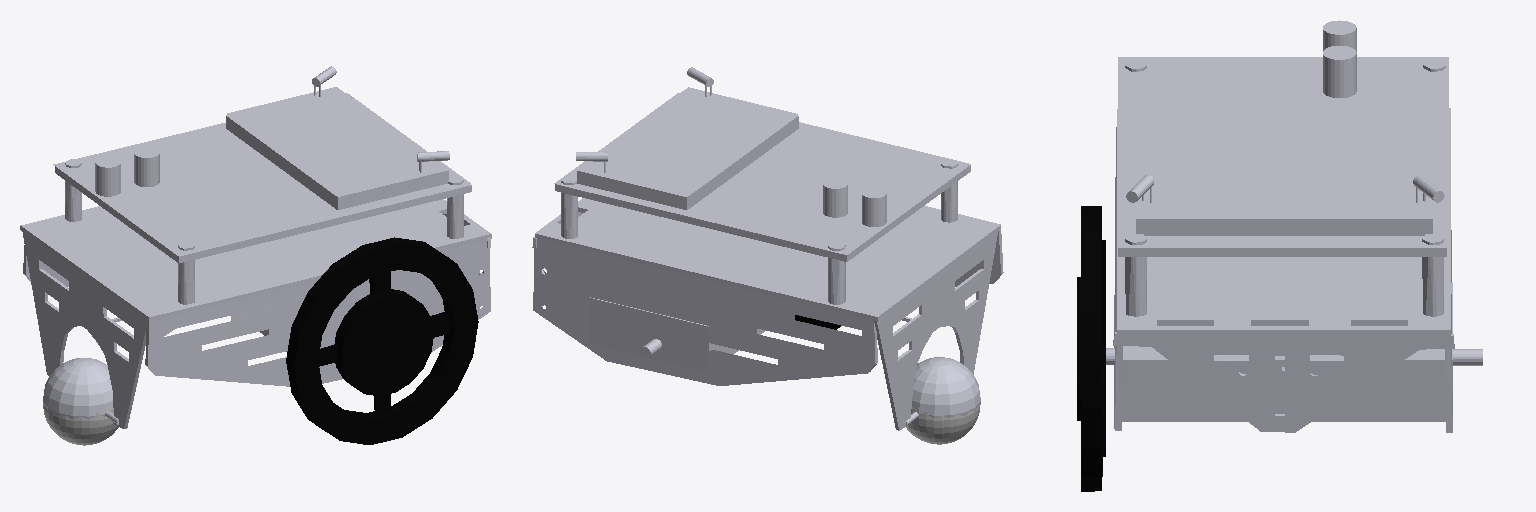
The robot description file, URDF, robot "bhr":
<?xml version="1.0"?>
<robot name="bhr">
  <material name="aluminum">
    <color rgba="0.8 0.8 0.85 1.0"/>
  </material>
  <material name="black">
    <color rgba="0.05 0.05 0.05 1.0"/>
  </material>
  <material name="silver">
    <color rgba="0.75 0.75 0.75 1.0"/>
  </material>

  <link name="base_footprint"/>

  <joint name="base_joint" type="fixed">
    <parent link="base_footprint"/>
    <child link="base_link"/>
    <origin xyz="0.0 0.0 0.0" rpy="0 0 0"/>
  </joint>

  <link name="base_link">
    <visual>
      <origin xyz="0 0 0" rpy="0 0 0"/>
      <geometry>
        <mesh filename="meshes/boebot_chassis.obj"/>
      </geometry>
      <material name="aluminum"/>
    </visual>
    <collision>
      <!-- Bottom 20 mm above the floor: only the wheels and caster touch it (a body resting
           on the ground drags, and the robot cannot drive). -->
      <origin xyz="-0.025 0 0.0545" rpy="0 0 0"/>
      <geometry>
        <box size="0.137 0.095 0.068"/>
      </geometry>
    </collision>
    <inertial>
      <origin xyz="-0.025 0 0.045" rpy="0 0 0"/>
      <mass value="0.300"/>
      <inertia ixx="0.000262" ixy="0" ixz="0" iyy="0.000381" iyz="0" izz="0.000541"/>
    </inertial>
  </link>

  <joint name="wheel_left_joint" type="continuous">
    <parent link="base_link"/>
    <child link="left_wheel"/>
    <origin xyz="0.0 0.046 0.034" rpy="-1.5707963 0 0"/>
    <axis xyz="0 0 1"/>
  </joint>

  <link name="left_wheel">
    <visual>
      <origin xyz="0 0 0" rpy="0 0 0"/>
      <geometry>
        <mesh filename="meshes/boebot_wheel_left.obj"/>
      </geometry>
      <material name="black"/>
    </visual>
    <collision>
      <origin xyz="0 0 0" rpy="0 0 0"/>
      <geometry>
        <cylinder length="0.007" radius="0.034"/>
      </geometry>
    </collision>
    <inertial>
      <origin xyz="0 0 0" rpy="0 0 0"/>
      <mass value="0.020"/>
      <inertia ixx="0.0000044" ixy="0" ixz="0" iyy="0.0000044" iyz="0" izz="0.0000084"/>
    </inertial>
  </link>

  <joint name="wheel_right_joint" type="continuous">
    <parent link="base_link"/>
    <child link="right_wheel"/>
    <origin xyz="0.0 -0.046 0.034" rpy="-1.5707963 0 0"/>
    <axis xyz="0 0 1"/>
  </joint>

  <link name="right_wheel">
    <visual>
      <origin xyz="0 0 0" rpy="0 0 0"/>
      <geometry>
        <mesh filename="meshes/boebot_wheel_right.obj"/>
      </geometry>
      <material name="black"/>
    </visual>
    <collision>
      <origin xyz="0 0 0" rpy="0 0 0"/>
      <geometry>
        <cylinder length="0.007" radius="0.034"/>
      </geometry>
    </collision>
    <inertial>
      <origin xyz="0 0 0" rpy="0 0 0"/>
      <mass value="0.020"/>
      <inertia ixx="0.0000044" ixy="0" ixz="0" iyy="0.0000044" iyz="0" izz="0.0000084"/>
    </inertial>
  </link>

  <joint name="caster_back_joint" type="fixed">
    <parent link="base_link"/>
    <child link="caster_back"/>
    <origin xyz="-0.081 0.0 0.013" rpy="0 0 0"/>
  </joint>

  <link name="caster_back">
    <visual>
      <geometry>
        <sphere radius="0.013"/>
      </geometry>
      <material name="silver"/>
    </visual>
    <collision>
      <geometry>
        <sphere radius="0.013"/>
      </geometry>
    </collision>
    <inertial>
      <mass value="0.010"/>
      <inertia ixx="0.0000005" ixy="0" ixz="0" iyy="0.0000005" iyz="0" izz="0.0000005"/>
    </inertial>
  </link>
</robot>

--- What the picture shows (computed from the rendered views, not written in the file) ---
Views: 3 orthographic renders of the robot side by side, from view 1: azimuth 30°, elevation 25°; view 2: azimuth 150°, elevation 25°; view 3: azimuth 270°, elevation 25°.
Robot: bhr — 5 links, 4 joints (2 continuous, 2 fixed); root link base_footprint; default pose: every joint at zero.
Links seen in each view (by area): view 1: base_link, right_wheel, caster_back; view 2: base_link, caster_back; view 3: base_link, right_wheel.
Boxes of the visible links, box(x1,y1,x2,y2) form: base_link: box(20, 66, 491, 428); right_wheel: box(286, 237, 478, 444); caster_back: box(43, 406, 118, 445); base_link: box(532, 67, 1003, 430); caster_back: box(906, 404, 980, 444); base_link: box(1106, 20, 1482, 432); right_wheel: box(1077, 206, 1105, 491).
Bounding box of the posed robot: 0.1372 × 0.0959 × 0.0887 m (x, y, z).
2 mesh visuals loaded from 3 distinct referenced files (2 OBJ); not drawn: 1 (reference not matched to a file when rendering).
